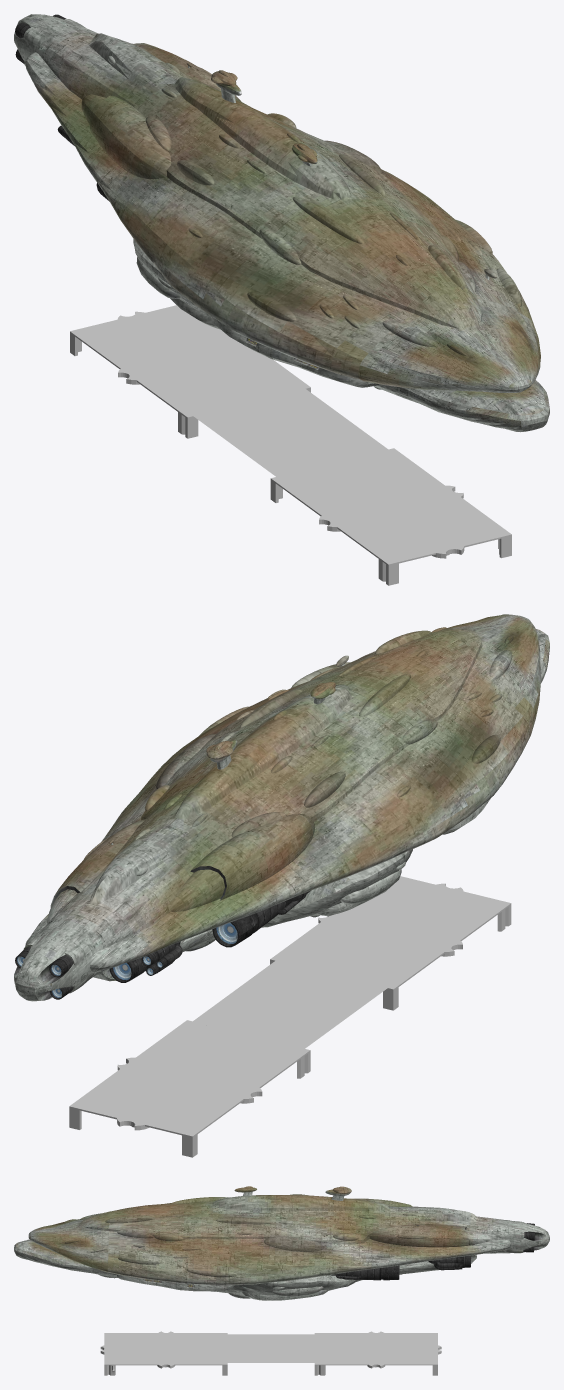
The picture shows the model from 3 angles, top to bottom: view 1: azimuth 30°, elevation 25°; view 2: azimuth 150°, elevation 25°; view 3: azimuth 270°, elevation 25°; orthographic projection. The views are drawn at different scales.
Visible parts, largest first — view 1: SUPERCAPITAL_NR_VISCOUNT, Base_-_Huge_pSphere3_0.002; view 2: SUPERCAPITAL_NR_VISCOUNT, Base_-_Huge_pSphere3_0.002; view 3: SUPERCAPITAL_NR_VISCOUNT, Base_-_Huge_pSphere3_0.002.
Part boxes in pixels (x1,y1,x2,y2): SUPERCAPITAL_NR_VISCOUNT: (14, 14, 549, 432); Base_-_Huge_pSphere3_0.002: (70, 305, 511, 585); SUPERCAPITAL_NR_VISCOUNT: (14, 614, 549, 1001); Base_-_Huge_pSphere3_0.002: (69, 876, 511, 1157); SUPERCAPITAL_NR_VISCOUNT: (14, 1186, 549, 1300); Base_-_Huge_pSphere3_0.002: (100, 1331, 441, 1375).
Bounding box in the file's own units: 6.79 × 7.99 × 22.36.
